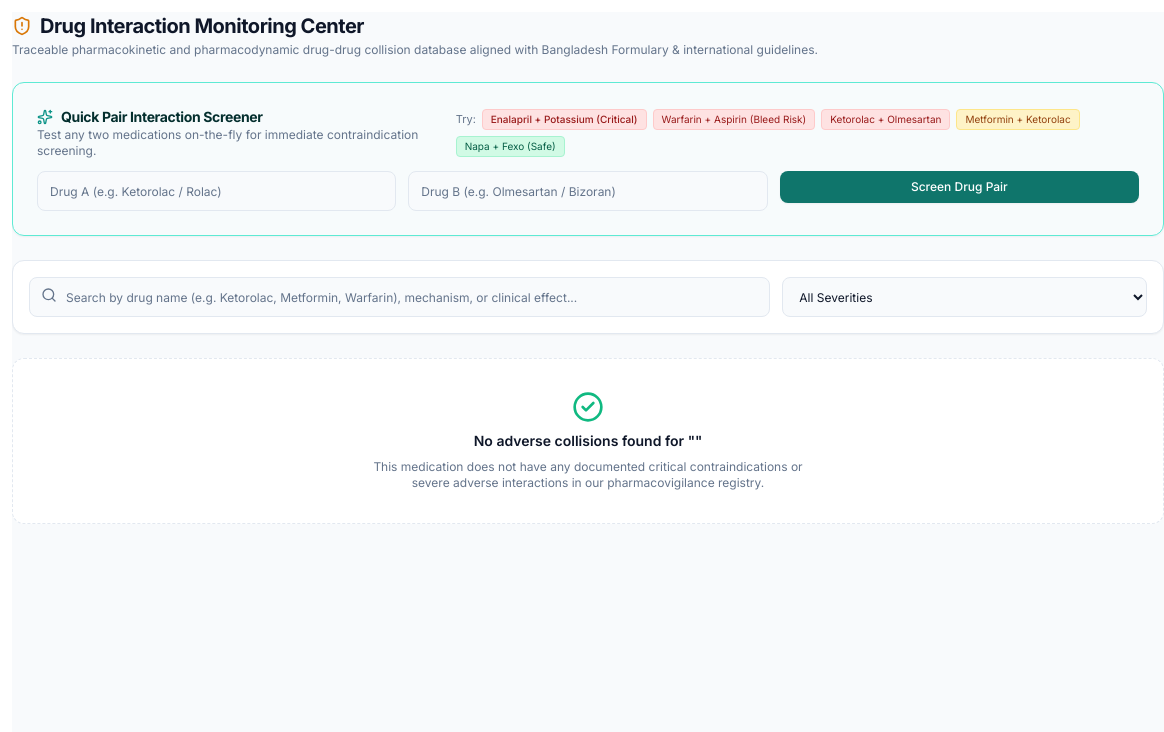
Test: DrugInteractionPage › renders quick pair interaction screener and screens drugs
The width and height of the screenshot is (1164, 732).
Type "Ketorolac" into the field with placeholder "Drug A (e.g. Ketorolac / Rolac)". click: (217, 191)
box: [37,171,396,211]
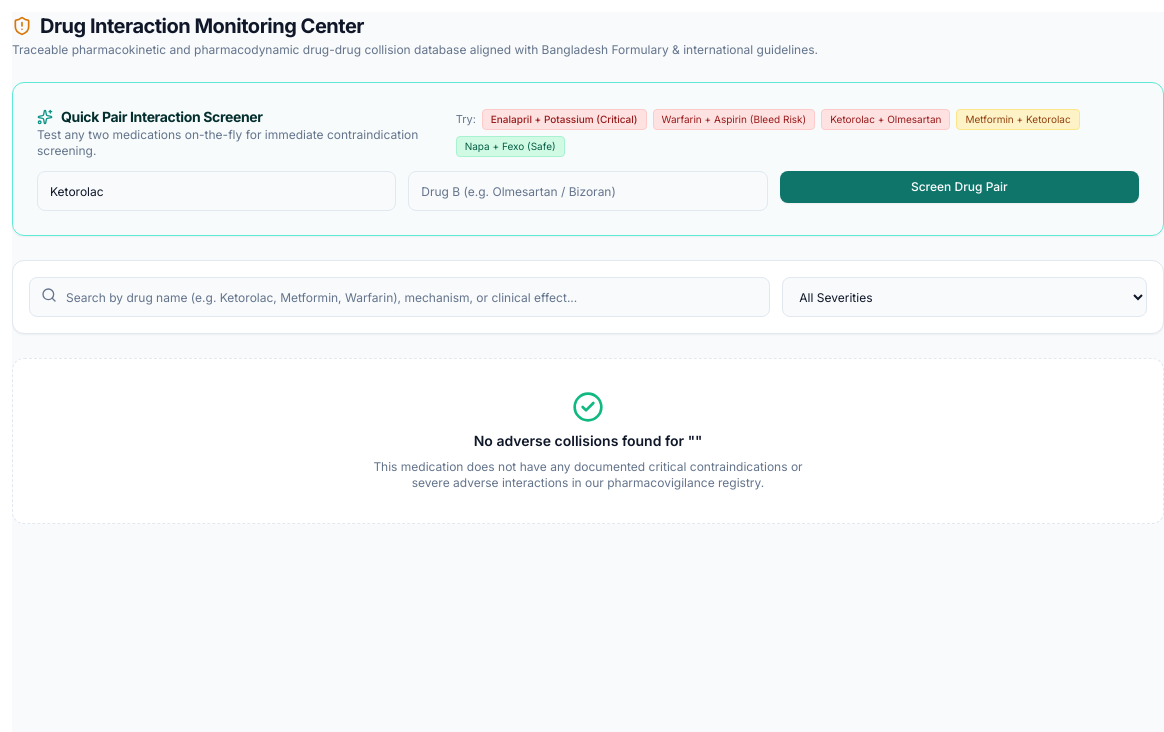
Type "Olmesartan" into the field with placeholder "Drug B (e.g. Olmesartan / Bizoran)". click: (588, 191)
box: [408,171,768,211]
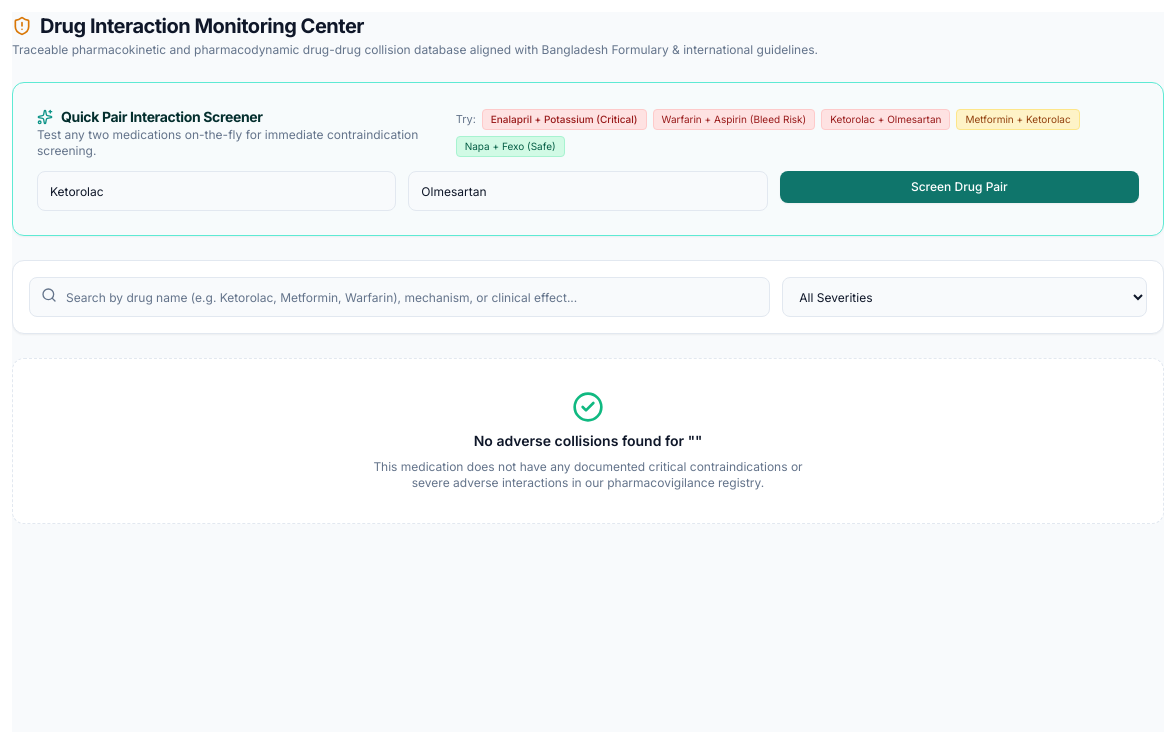
Click the button "Screen Drug Pair". click: (959, 187)
box: [780,171,1139,203]
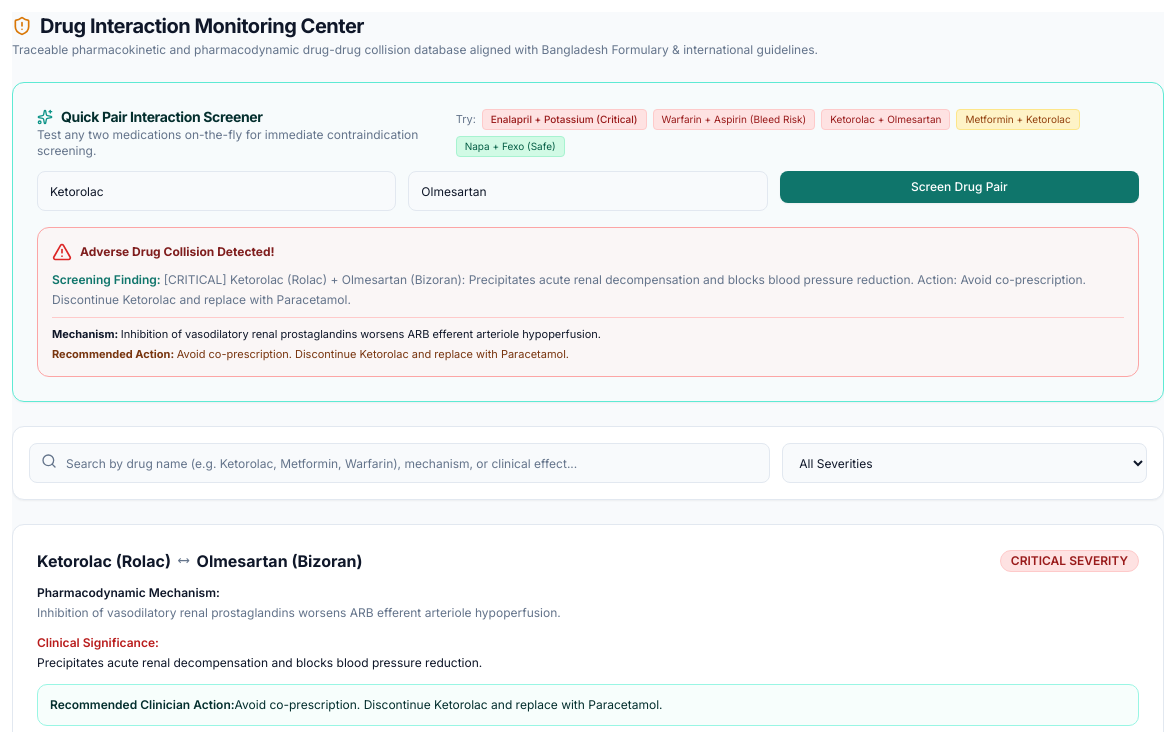
Expected: the button "Enalapril + Potassium (Critical)" is shown, [482,109,646,130]
Now the text "Screening Finding:" is shown, box [52,272,164,287]
